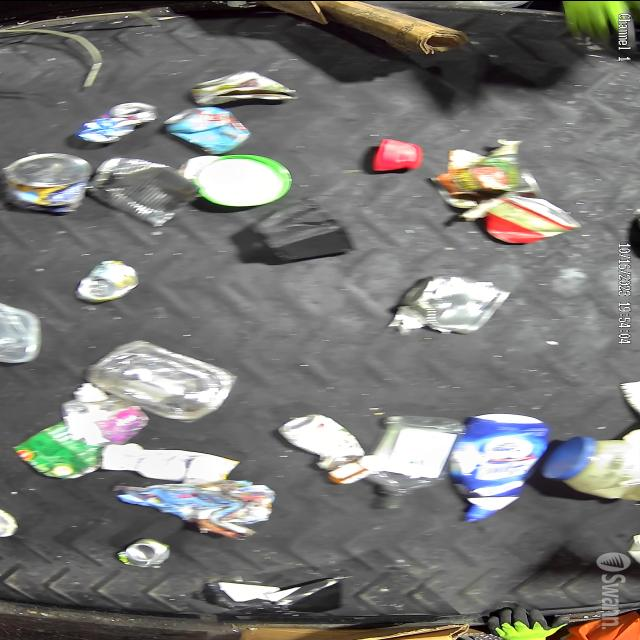can: (94, 154, 200, 227), (392, 272, 508, 332), (0, 146, 94, 218), (482, 192, 580, 254), (15, 422, 104, 483), (76, 100, 167, 145), (161, 108, 253, 152), (78, 258, 142, 306), (111, 536, 178, 570)
non_white_jug: (432, 412, 557, 523)
